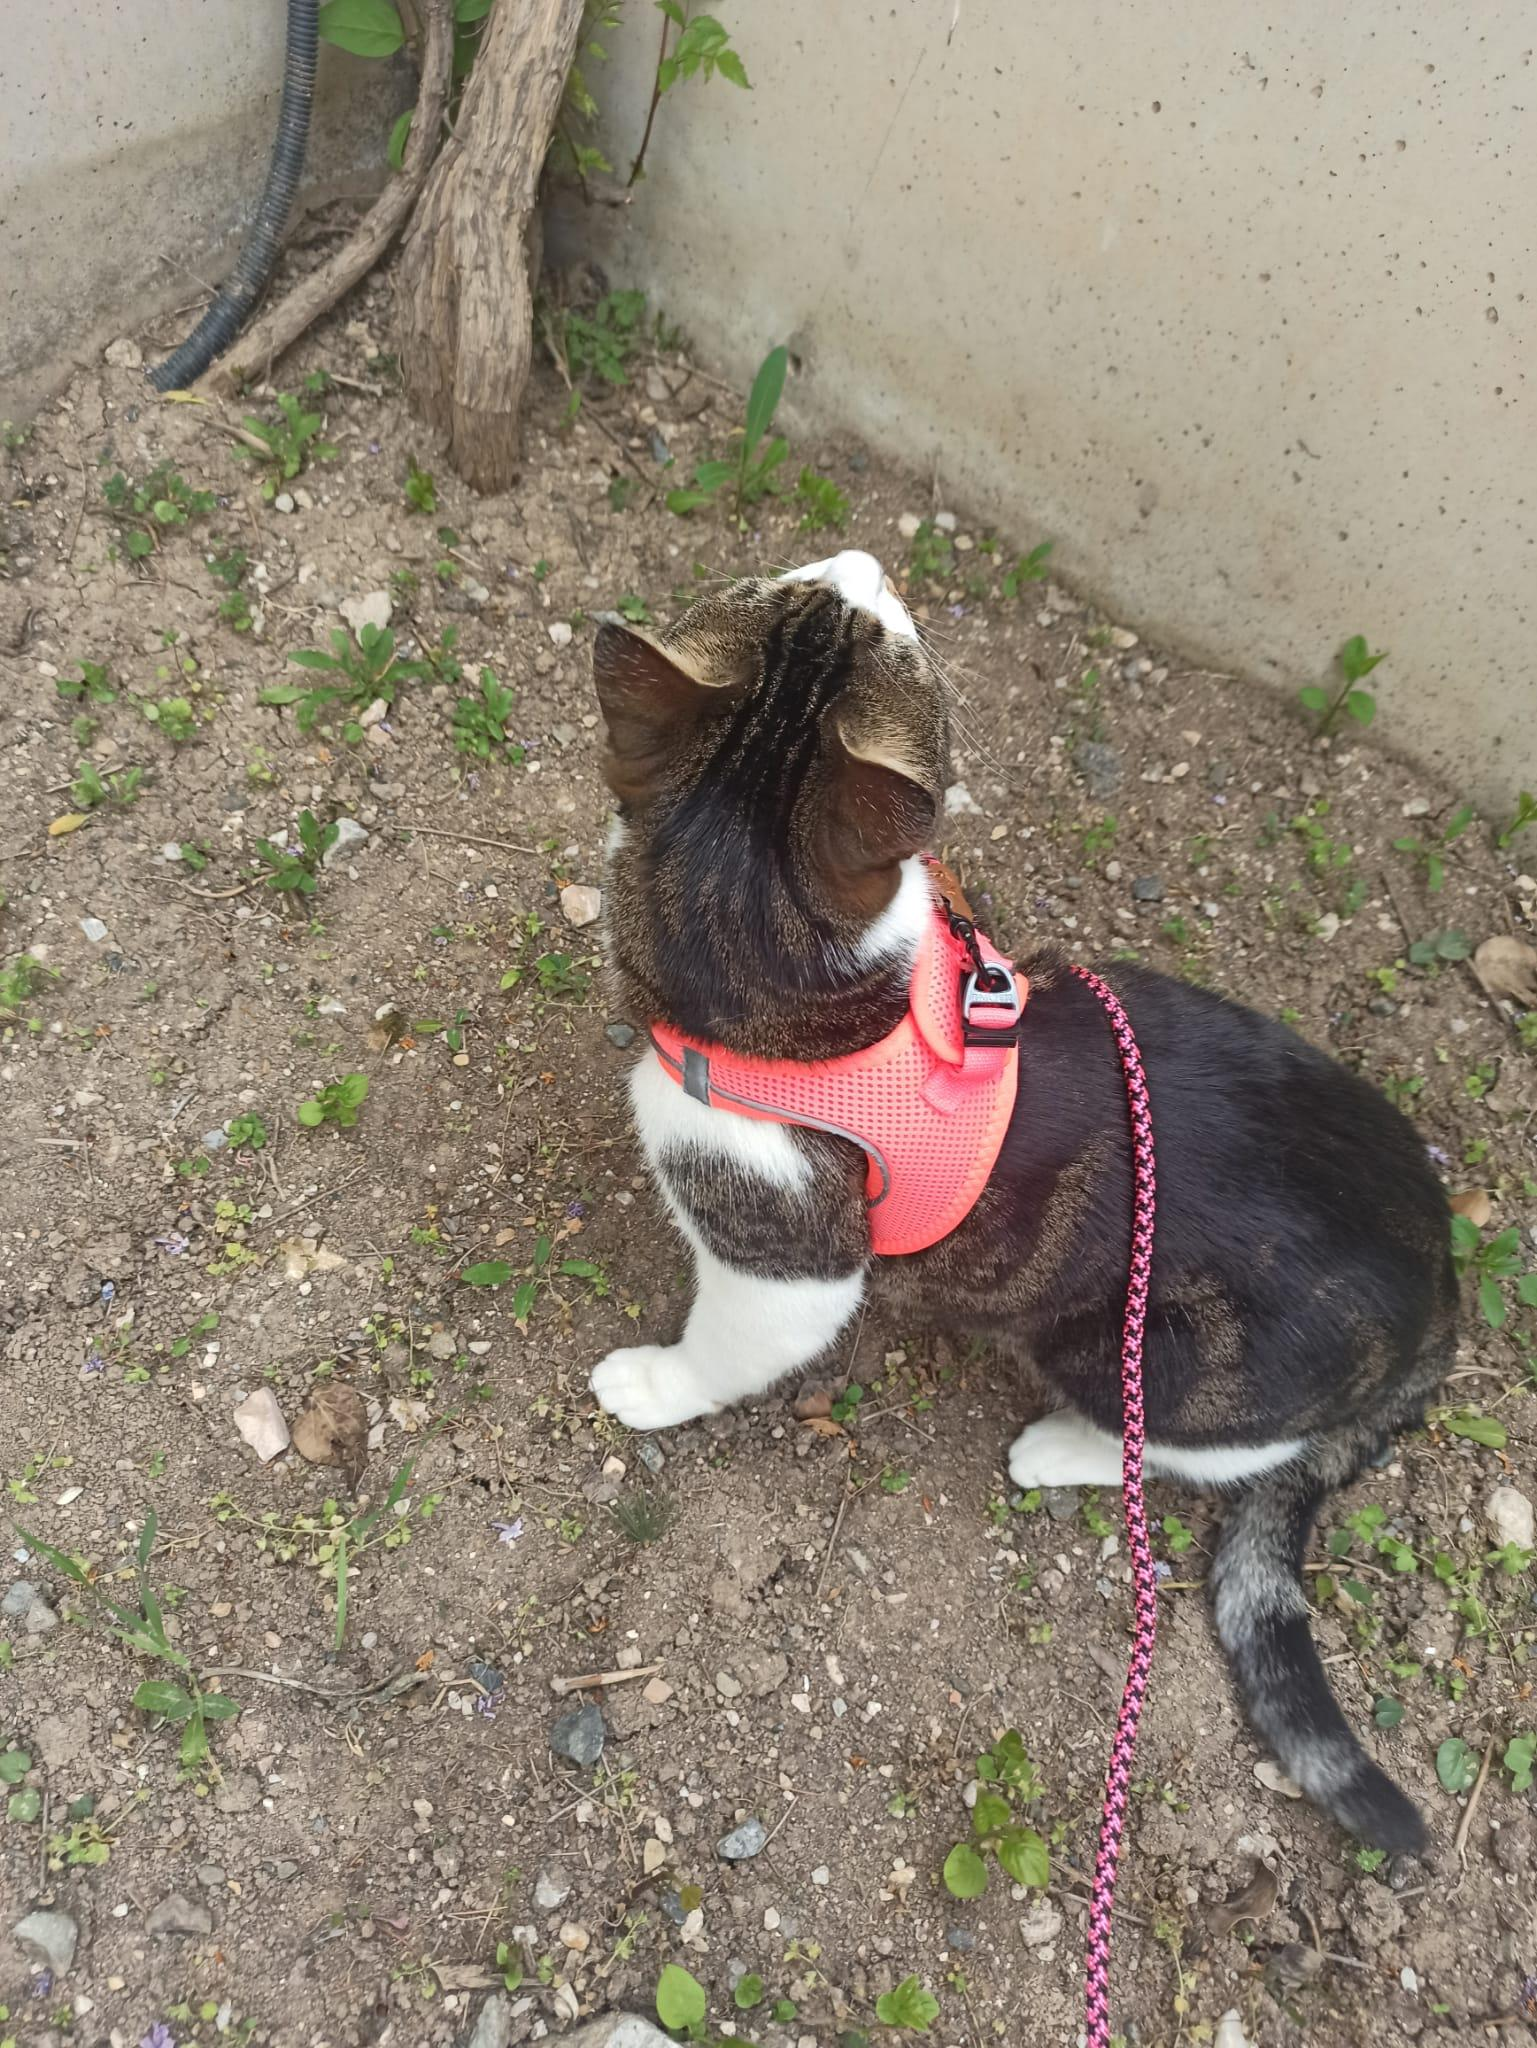kedo: (544, 525, 1487, 1867)
